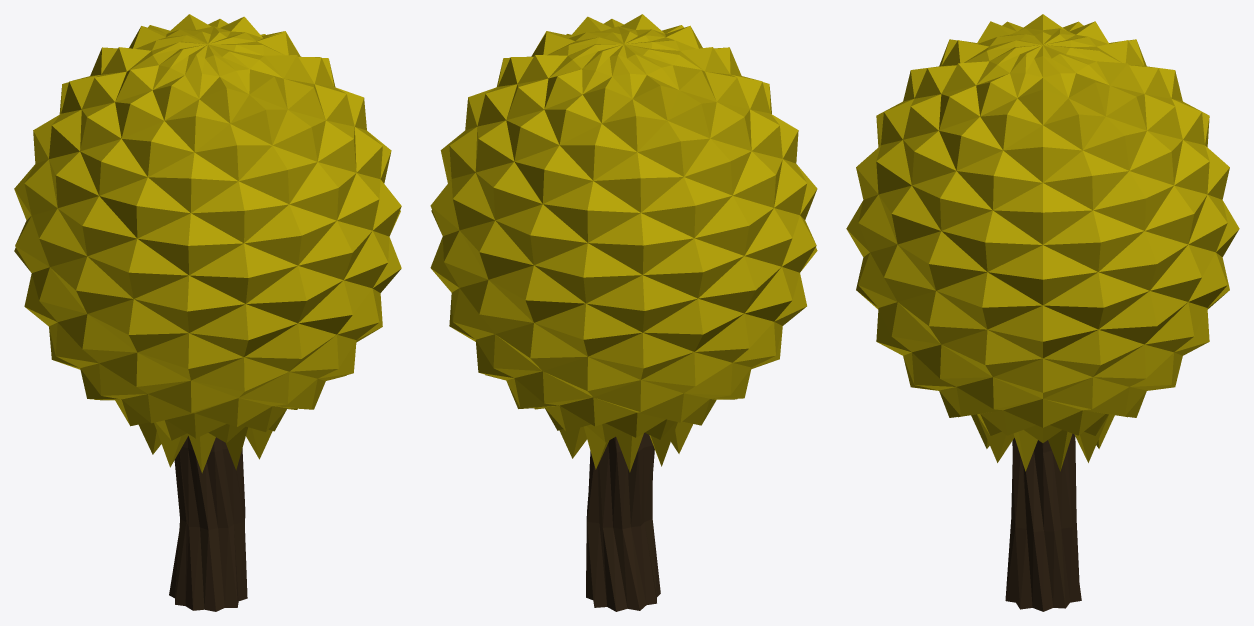
Rendered from NormalTree_Yellow.fbx.
3 views of the same model, side by side, from view 1: azimuth 30°, elevation 25°; view 2: azimuth 150°, elevation 25°; view 3: azimuth 270°, elevation 25° (orthographic).
Parts seen in each view (by area): view 1: pSphere1, pCylinder1; view 2: pSphere1, pCylinder1; view 3: pSphere1, pCylinder1.
Boxes of the visible parts, x1,y1,x2,y2 form: pSphere1: (14, 14, 401, 473); pCylinder1: (169, 436, 247, 611); pSphere1: (430, 14, 817, 472); pCylinder1: (586, 432, 660, 611); pSphere1: (846, 14, 1239, 471); pCylinder1: (1005, 433, 1081, 611).
Size of the model in its own units: 11.59 by 18.17 by 11.73.
